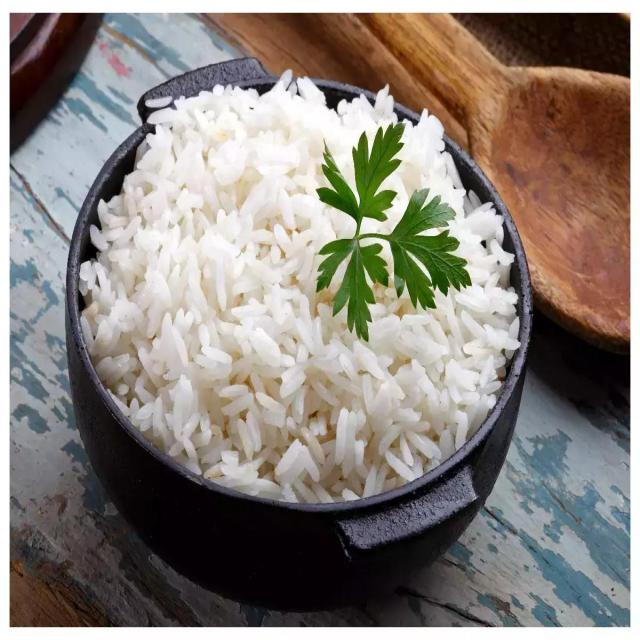rice: (85, 88, 519, 500)
